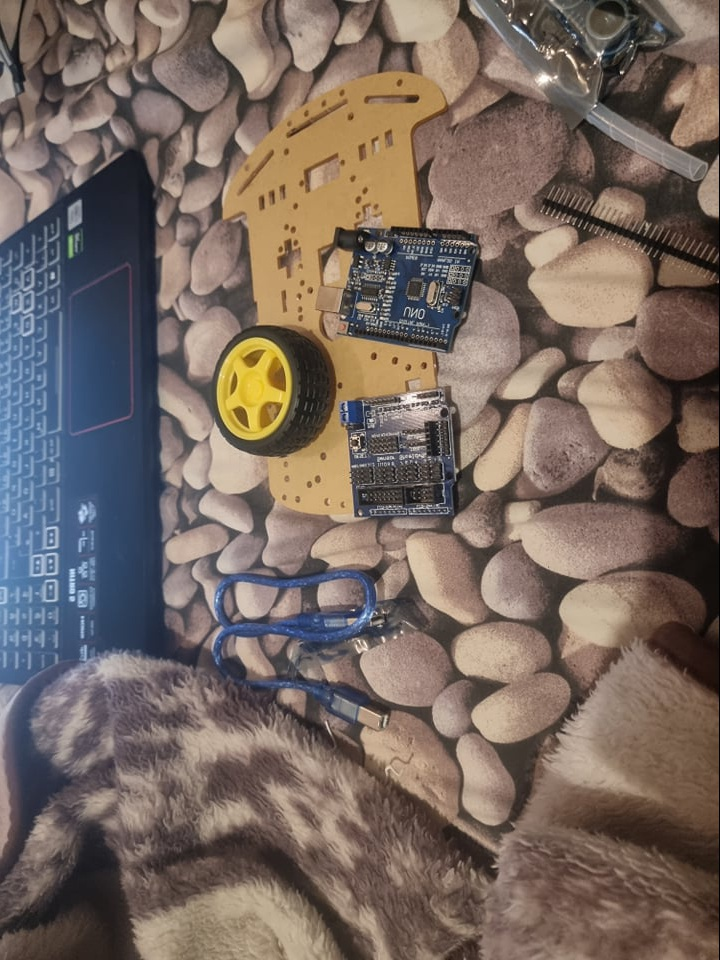5V EXPANSION: (342, 387, 458, 519)
SENSOR: (552, 1, 648, 60)
UNO R3: (316, 226, 484, 352)
